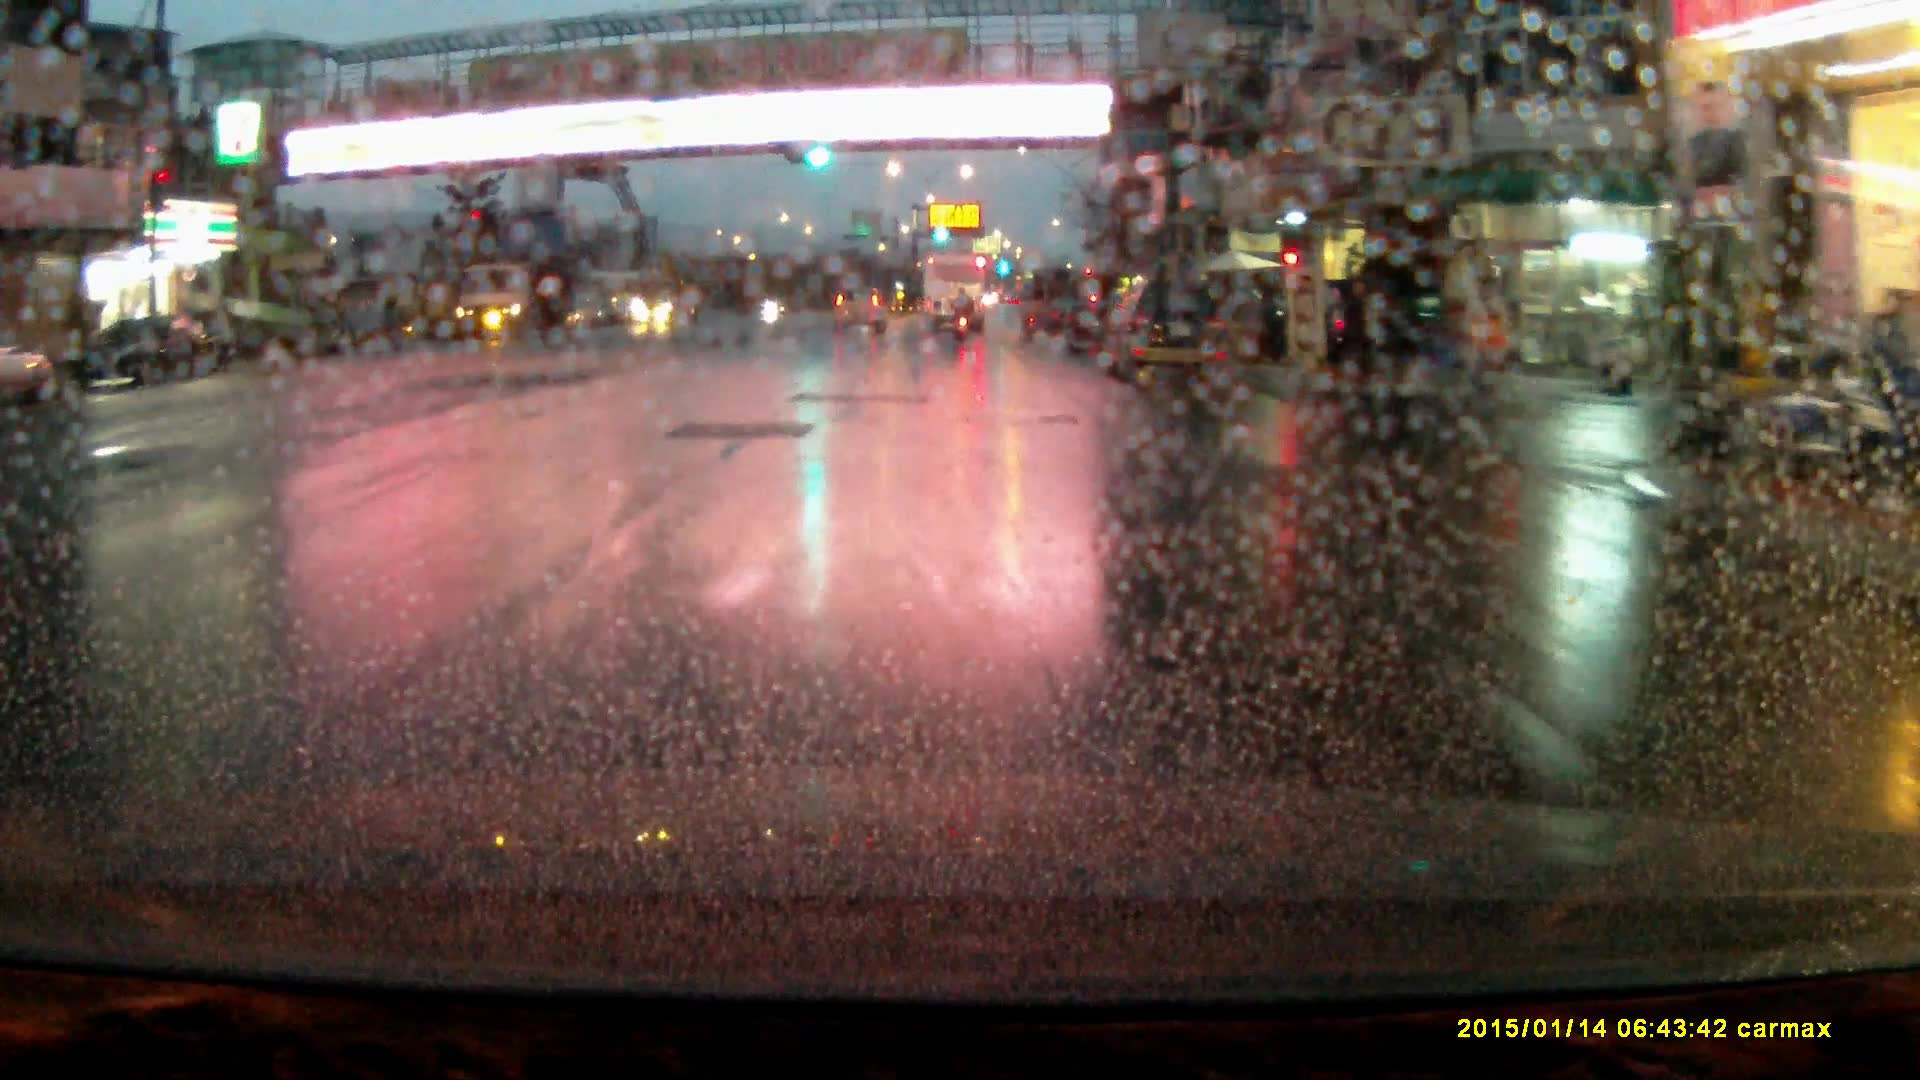pedestrian: (1455, 278, 1513, 438)
rider: (952, 286, 975, 343)
vehicle: (1102, 279, 1229, 393), (66, 320, 210, 396), (1330, 283, 1443, 371), (447, 262, 566, 341), (1, 330, 60, 414), (924, 257, 985, 336), (631, 280, 698, 330), (834, 291, 888, 339)
